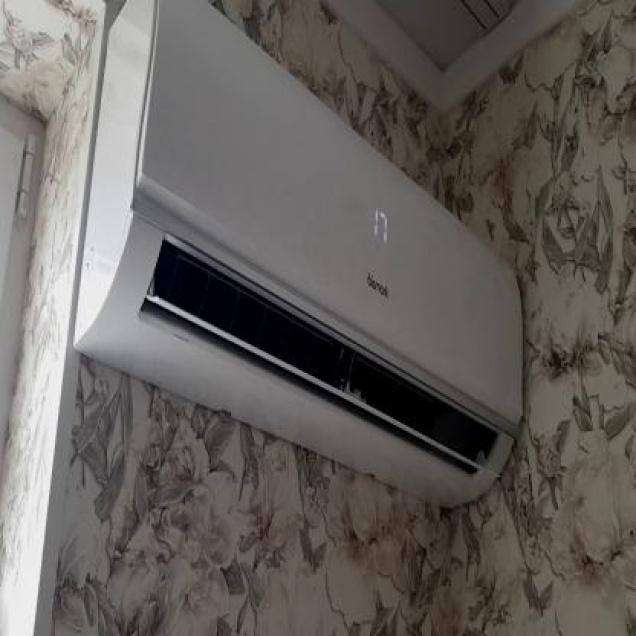AC: (71, 0, 524, 507)
